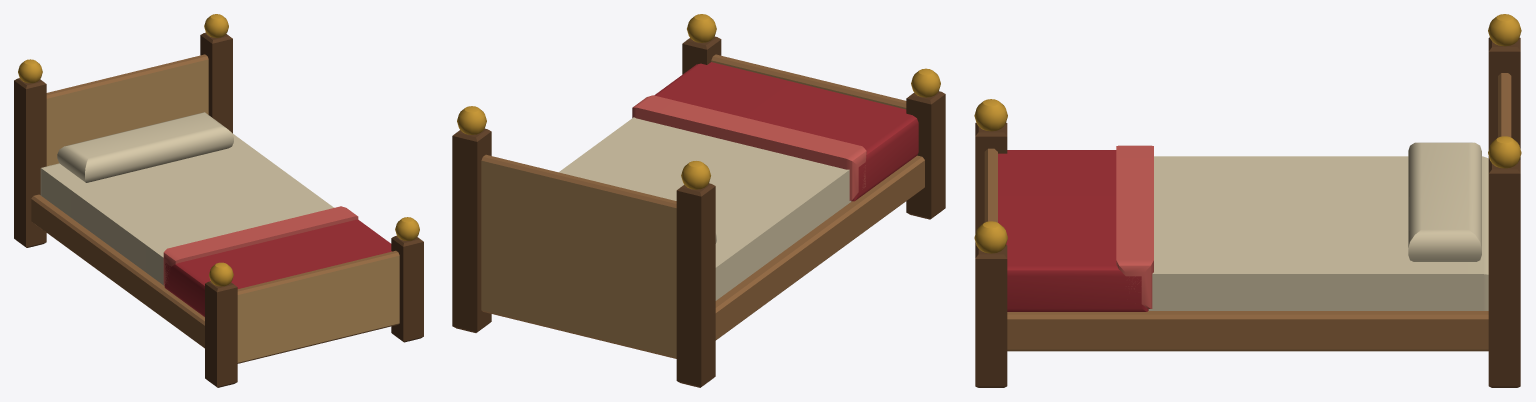
File: Bed_04.glb
3 views of the same model, side by side, from view 1: azimuth 30°, elevation 25°; view 2: azimuth 150°, elevation 25°; view 3: azimuth 270°, elevation 25° (orthographic). The views are drawn at different scales.
Parts seen in each view (by area): view 1: Bed_04; view 2: Bed_04; view 3: Bed_04.
Part boxes in pixels (bbox=[...]): Bed_04: bbox=[14, 14, 423, 387]; Bed_04: bbox=[452, 14, 945, 387]; Bed_04: bbox=[974, 14, 1521, 387].
Size of the model in its own units: 4.81 by 4.03 by 8.16.
